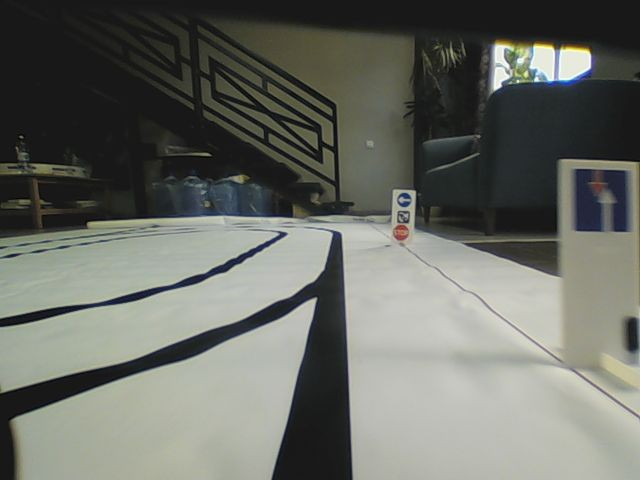Stop: (393, 224, 409, 238)
priority_movement: (571, 165, 637, 236)
